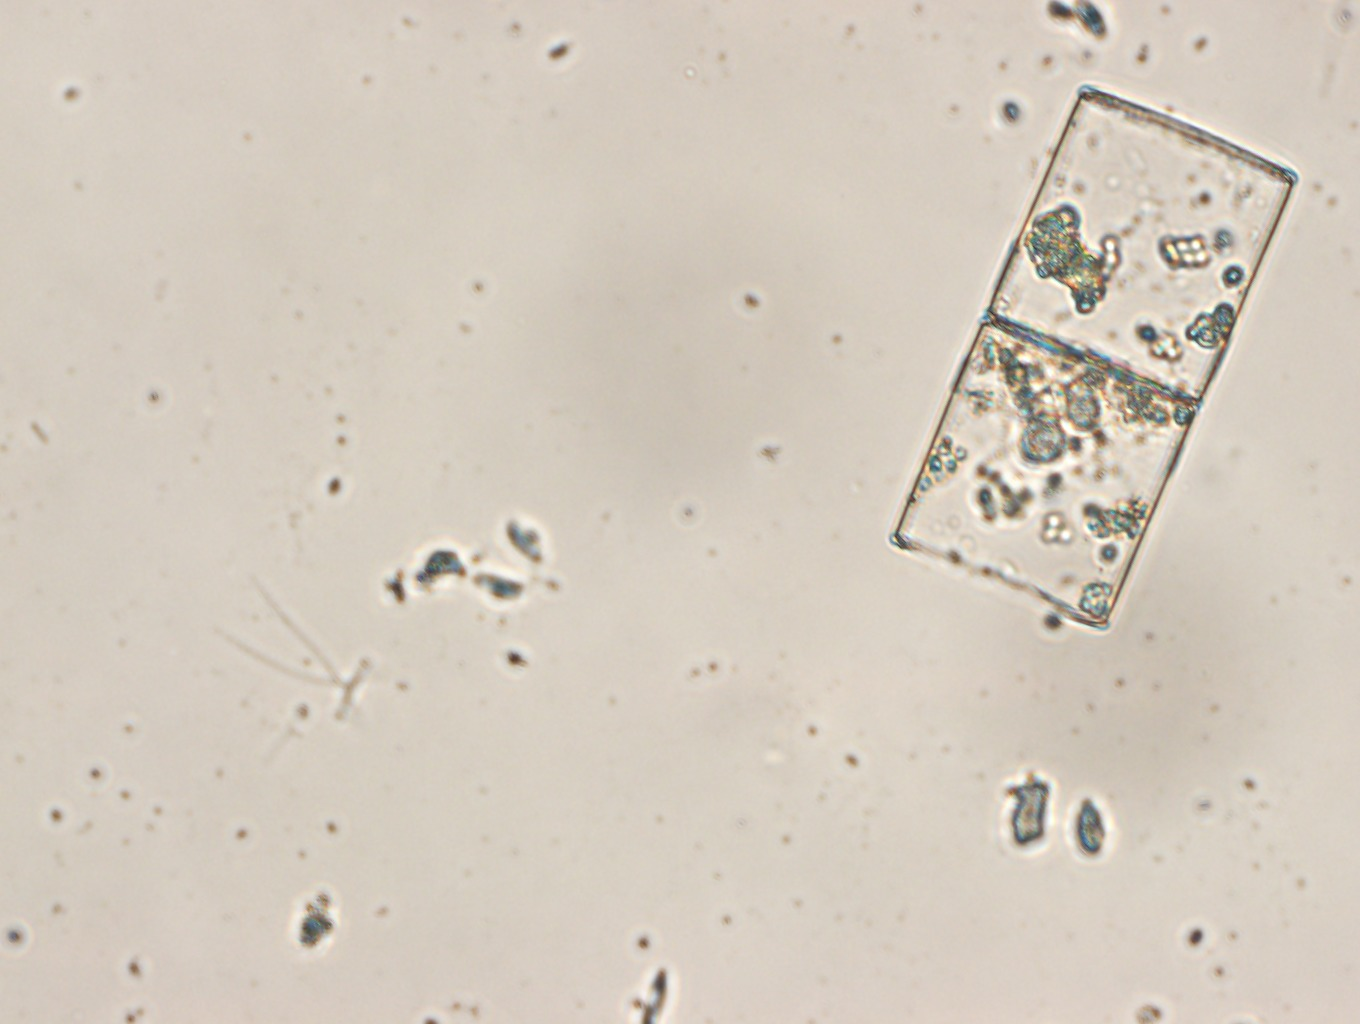guinardia flaccida: (889, 85, 1299, 630)
